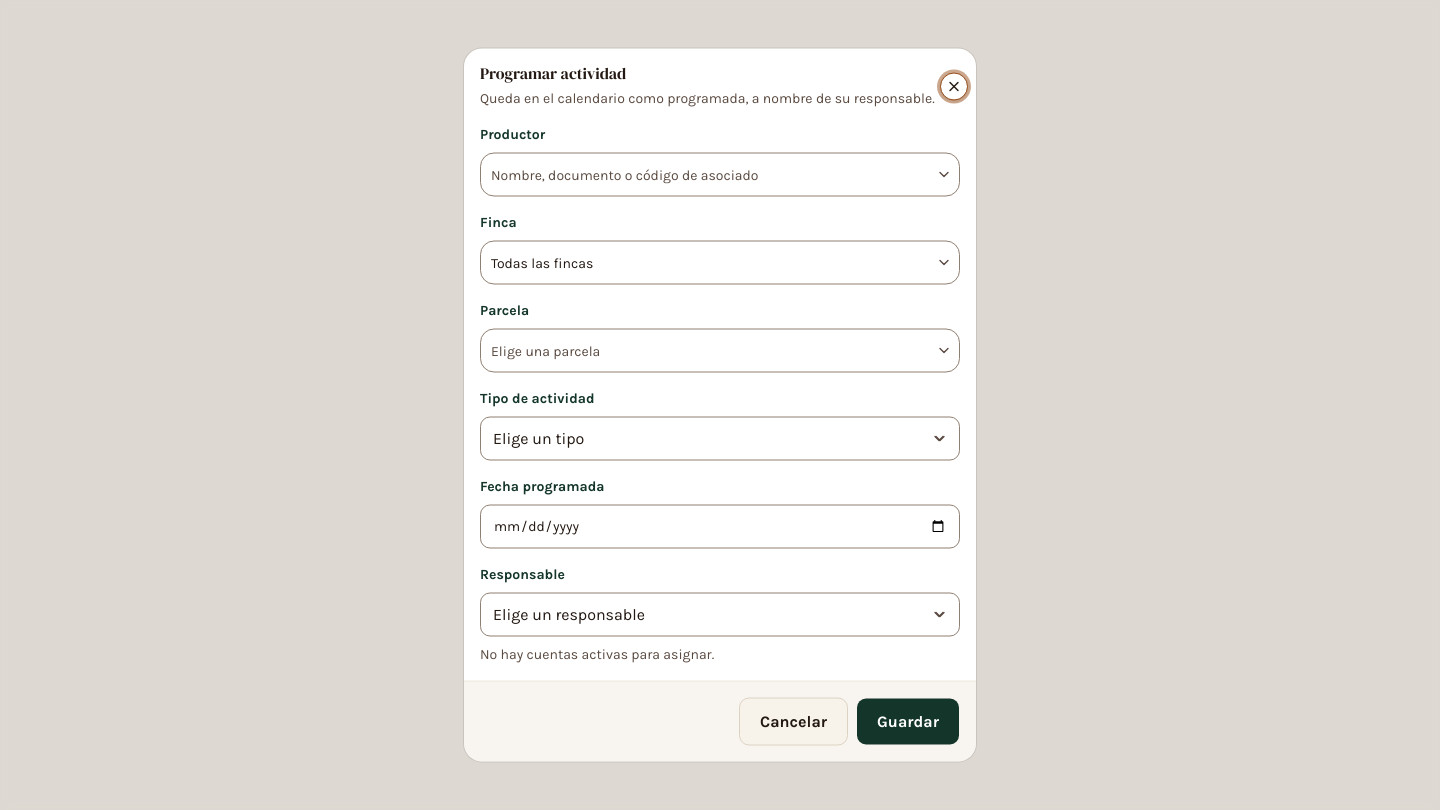
Scenario: ActivityFormDialog for the technical account › lists every farm and plot from the start, saying whose each one is
Expected: the dropdown labelled "Productor" is shown, [481,158,932,190]
Expected: the dropdown labelled "Parcela" is enabled, [481,334,932,366]
Step 1. Click the dropdown labelled "Finca" → coordinates (706, 262), box [481,246,932,278]
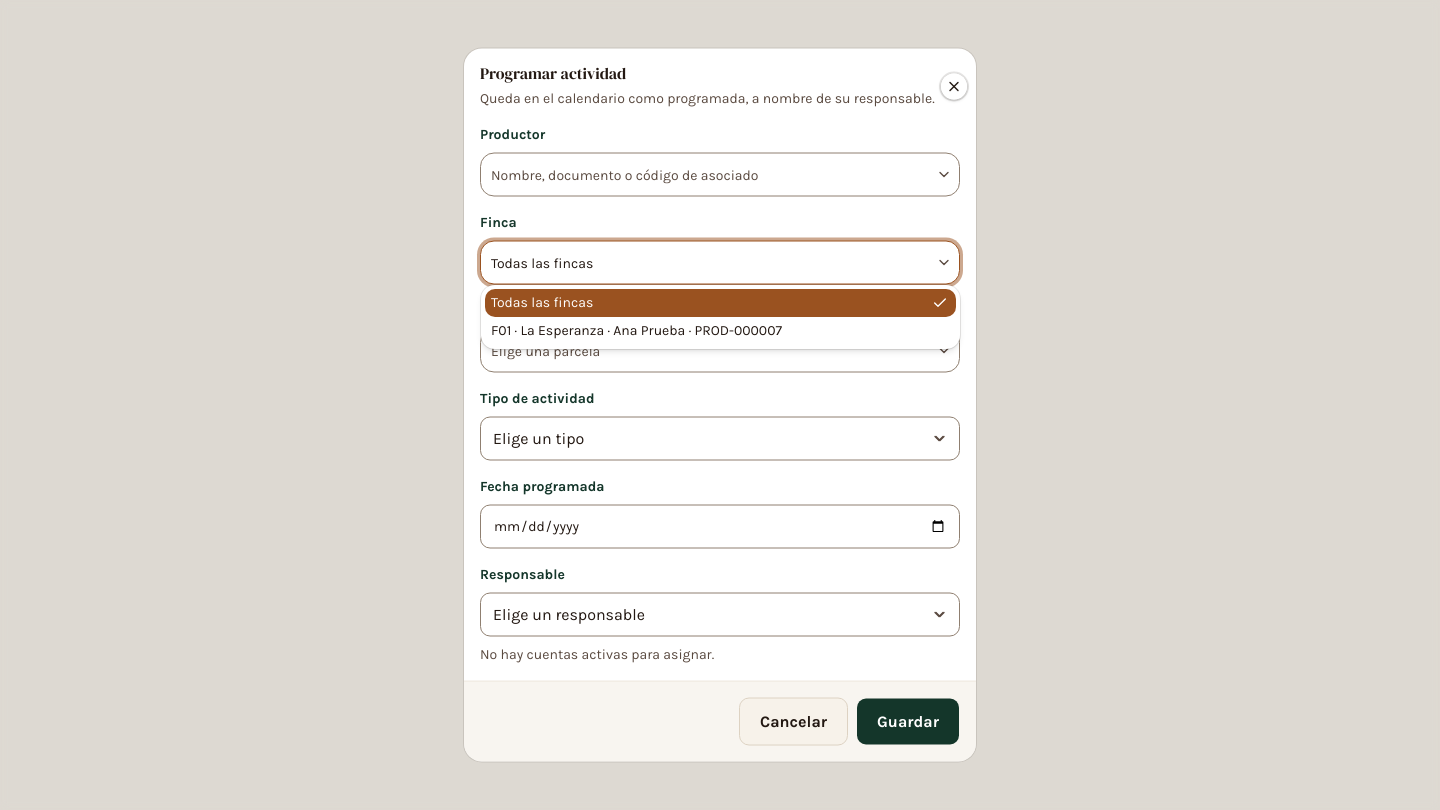
Expected: the option "F01 · La Esperanza · Ana Prueba · PROD-000007" is shown, [491,322,782,339]
Step 2. Press Escape
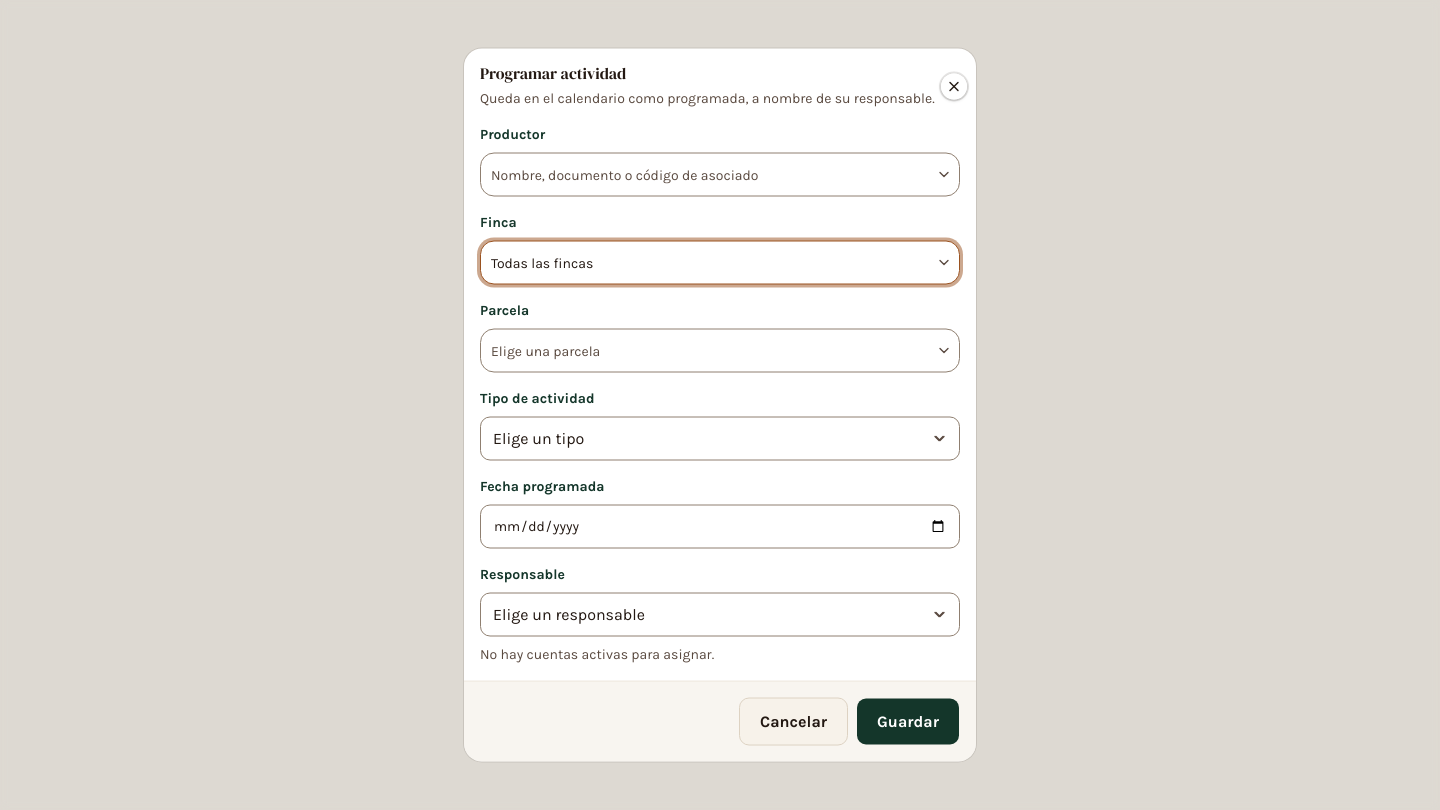
Step 3. Click the dropdown labelled "Parcela" → coordinates (706, 350), box [481,334,932,366]
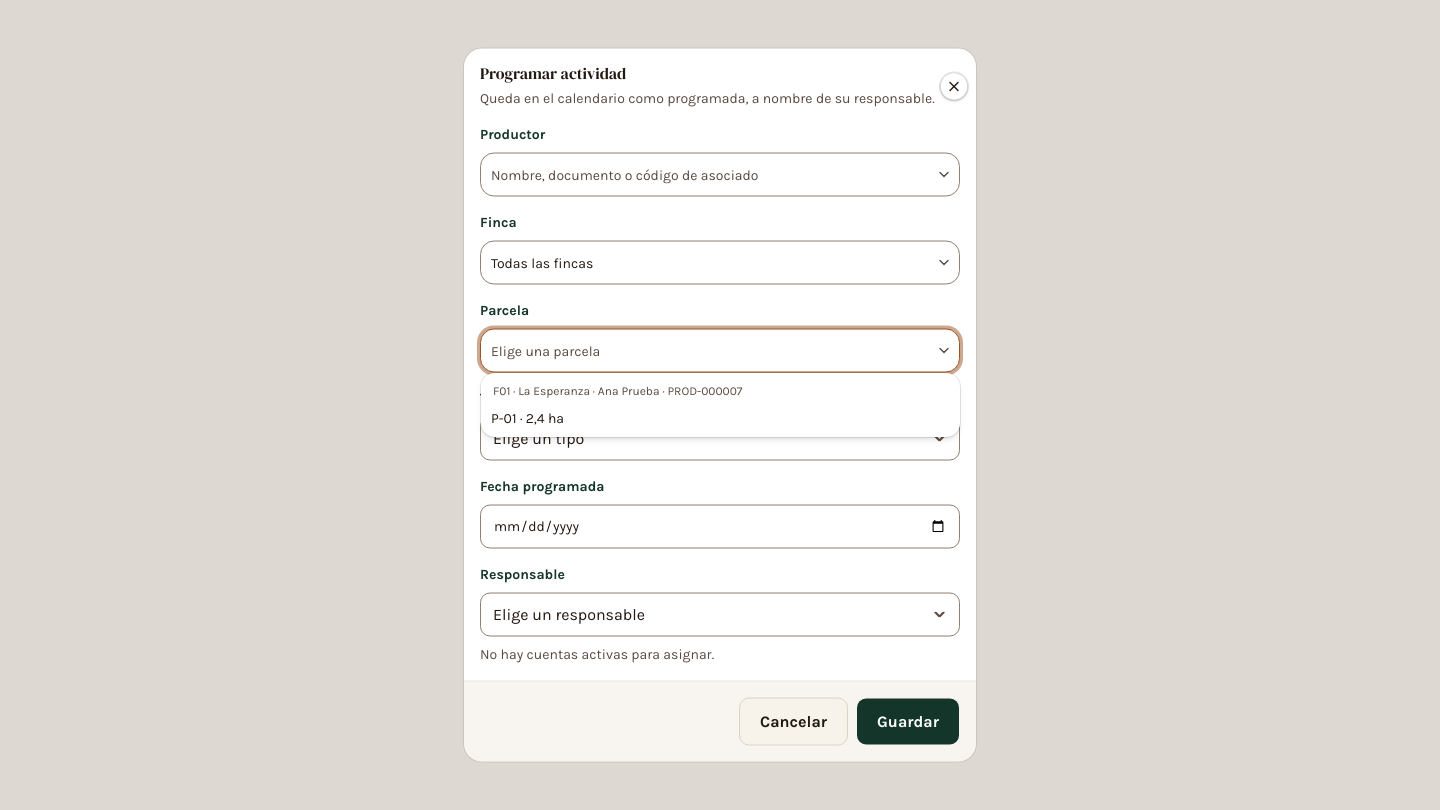
Step 4. Press Escape
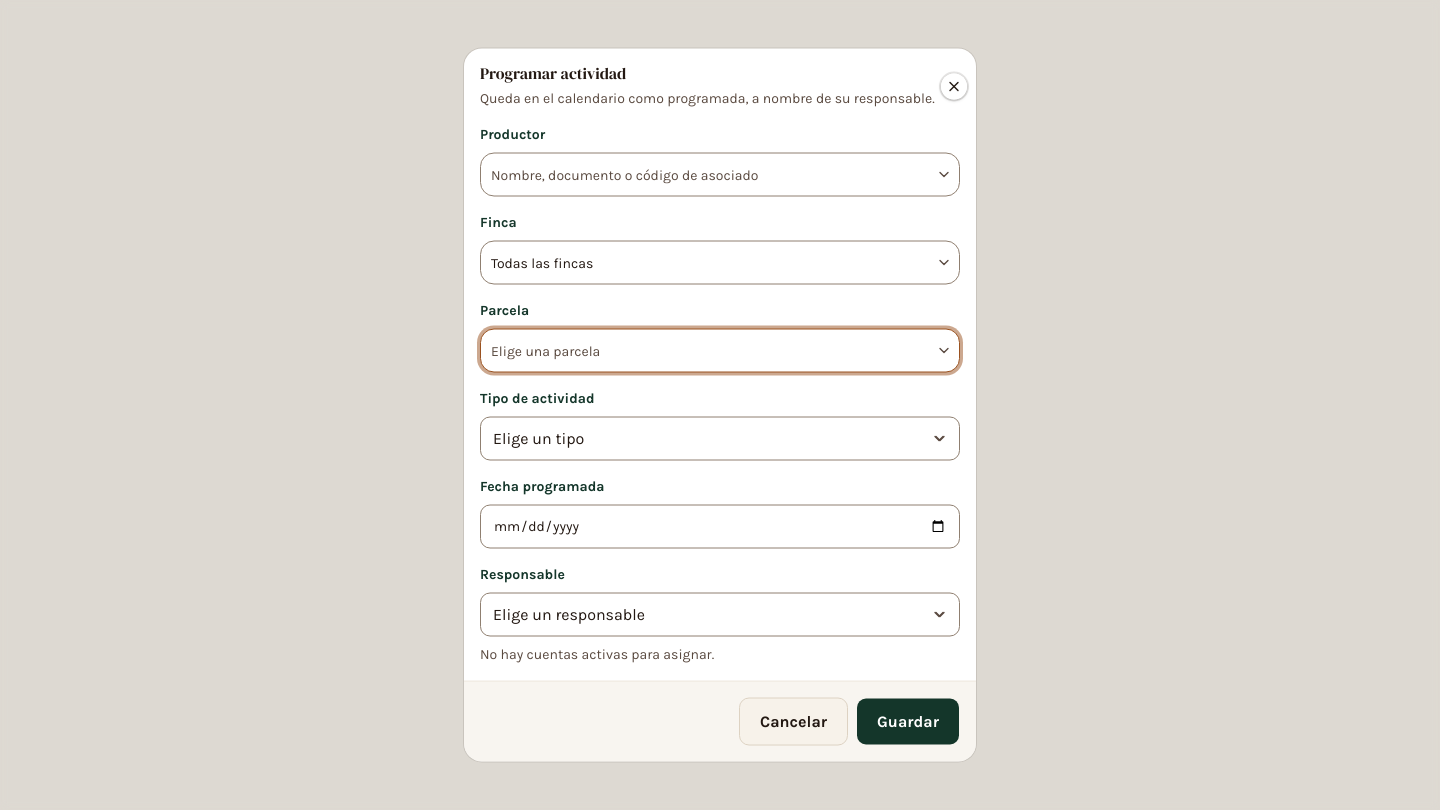
Step 5. Click the dropdown labelled "Parcela" → coordinates (706, 350), box [481,334,932,366]
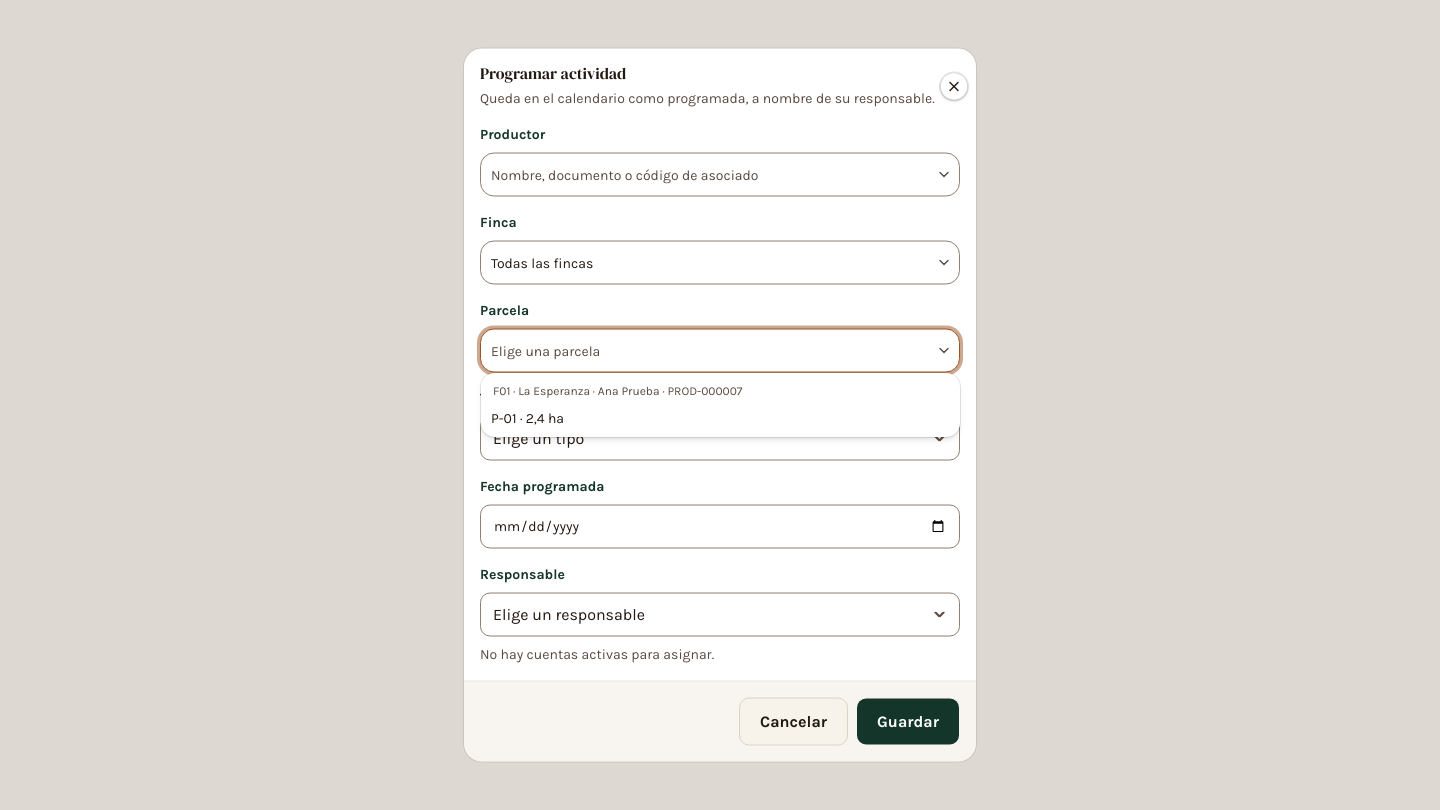
Expected: the element "F01 · La Esperanza · Ana Prueba · PROD-000007" is shown, [491,384,742,427]
